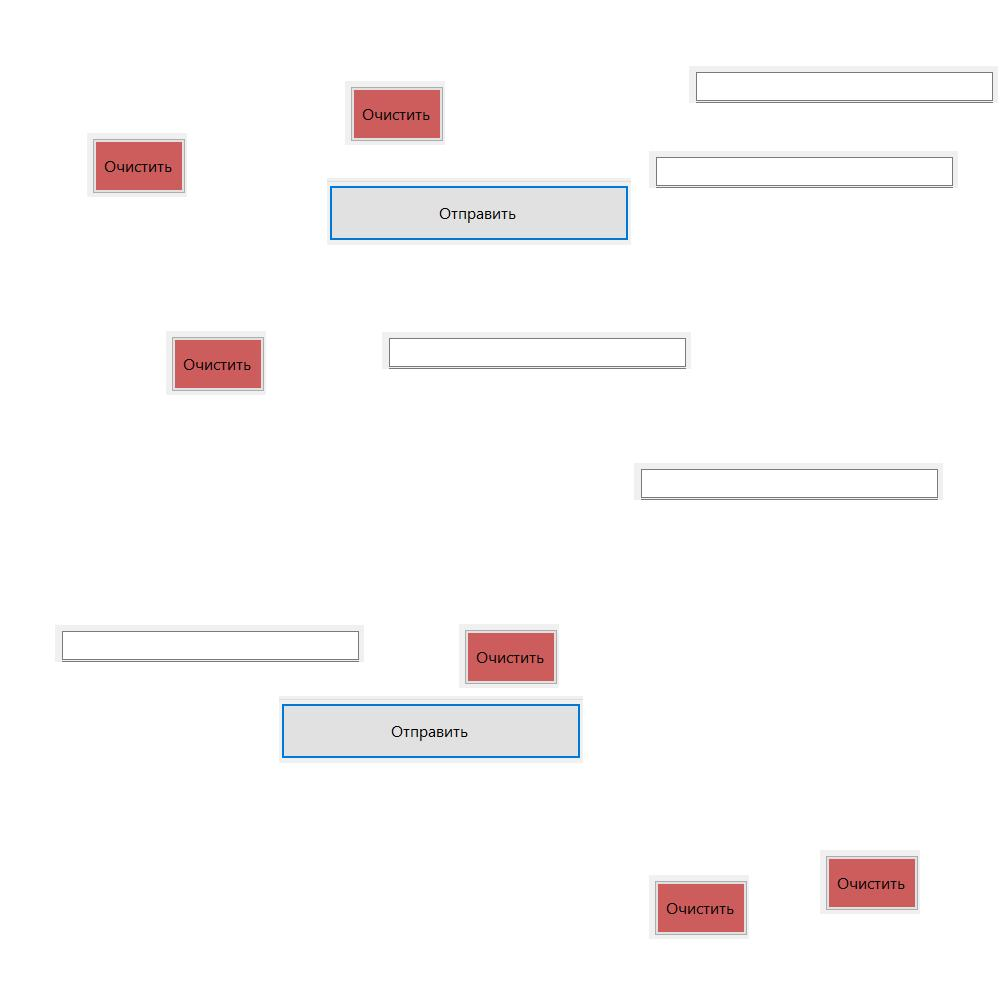Button: (327, 178, 631, 245), (279, 696, 583, 763), (649, 875, 749, 939), (166, 331, 266, 395), (820, 850, 920, 914), (459, 624, 559, 688), (87, 133, 187, 197), (345, 81, 445, 145)
EditText-: (689, 66, 998, 103), (382, 332, 691, 369), (634, 463, 943, 500), (649, 151, 958, 188), (55, 625, 364, 662)
